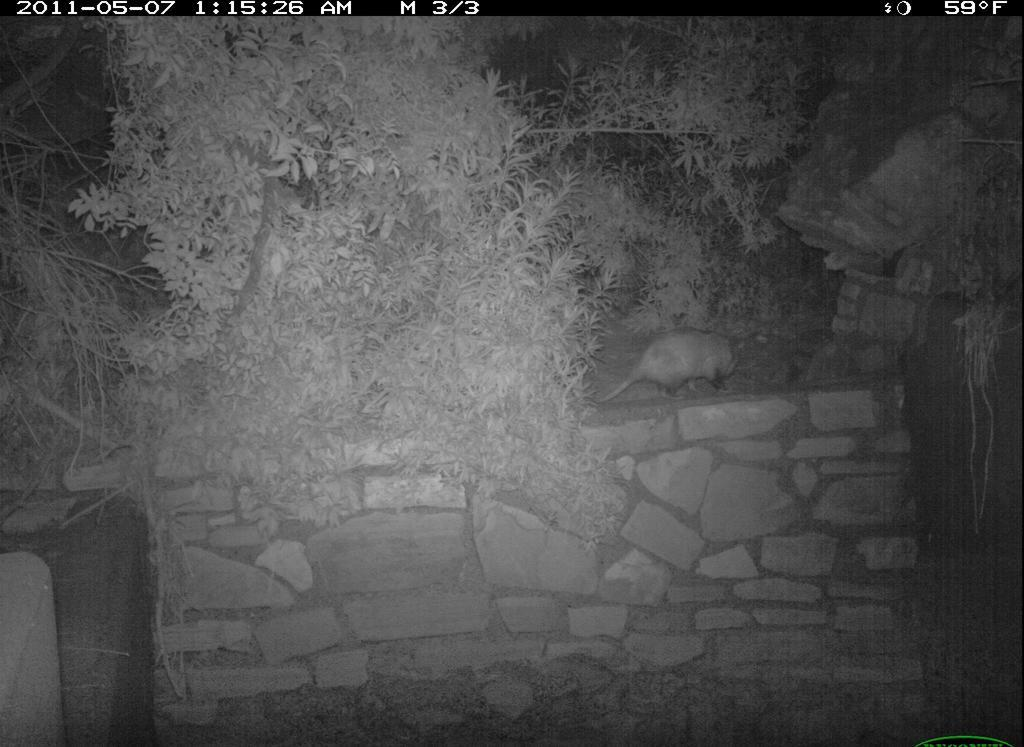opossum: (573, 317, 747, 422)
